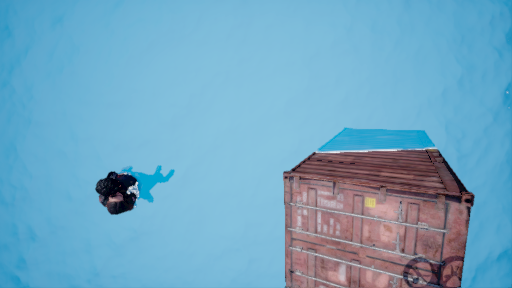person: (98, 166, 175, 220)
